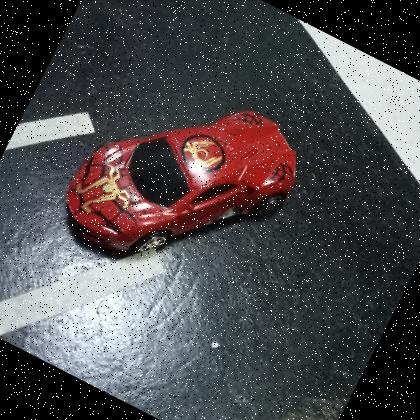Car: (48, 48, 318, 312)
